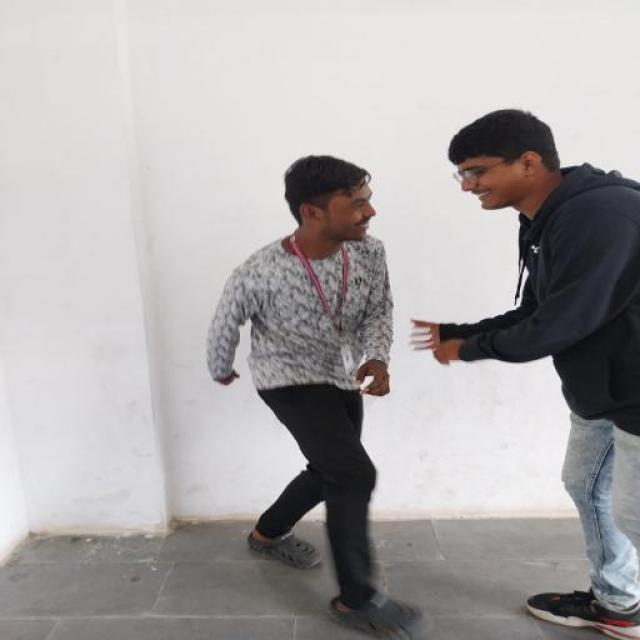id_card: (286, 233, 366, 382)
